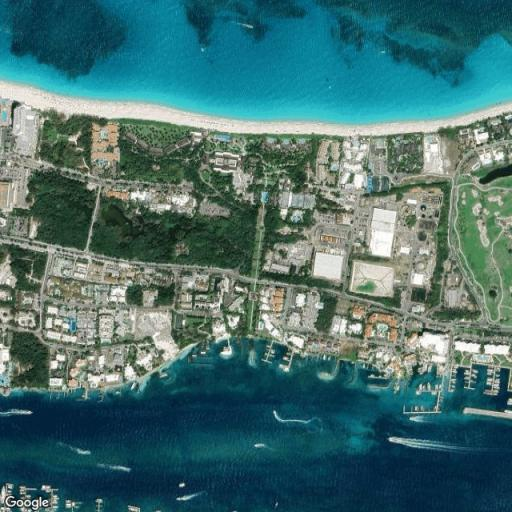ship: (386, 437, 484, 454), (169, 486, 210, 505), (273, 410, 323, 425), (58, 440, 94, 455), (92, 463, 137, 475), (0, 409, 34, 416), (172, 481, 192, 490), (253, 443, 273, 450), (409, 416, 429, 422), (0, 485, 6, 504), (127, 502, 139, 511), (482, 391, 500, 396), (274, 497, 282, 508), (41, 484, 52, 489), (219, 352, 232, 356), (428, 380, 432, 393), (131, 381, 136, 390), (462, 376, 471, 381), (503, 408, 511, 413), (422, 383, 427, 391), (452, 368, 458, 374), (413, 404, 418, 411), (418, 383, 422, 391), (486, 376, 492, 381), (451, 385, 457, 390), (434, 383, 439, 389), (494, 380, 501, 384), (494, 382, 501, 386), (487, 381, 493, 385), (495, 378, 501, 382), (494, 386, 502, 389), (451, 381, 458, 384), (420, 406, 422, 412), (451, 379, 458, 380)
